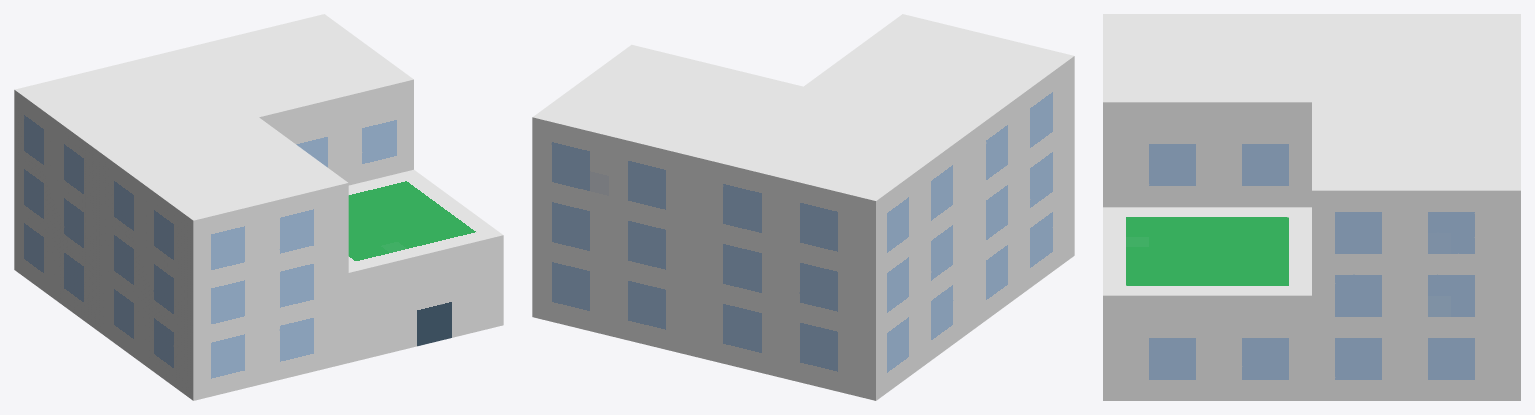
File: Hotel.glb
3 renders of one model, left to right at view 1: azimuth 30°, elevation 25°; view 2: azimuth 150°, elevation 25°; view 3: azimuth 270°, elevation 25°, orthographic. The views are drawn at different scales.
Visible parts, largest first — view 1: Cube.012; view 2: Cube.012; view 3: Cube.012.
Boxes of the visible parts, <box> form: Cube.012: <box>14,14,503,400</box>; Cube.012: <box>532,14,1074,400</box>; Cube.012: <box>1103,14,1520,400</box>.
Bounding box in the file's own units: 1.8 × 1 × 1.8.
1 material, 1 textured.
